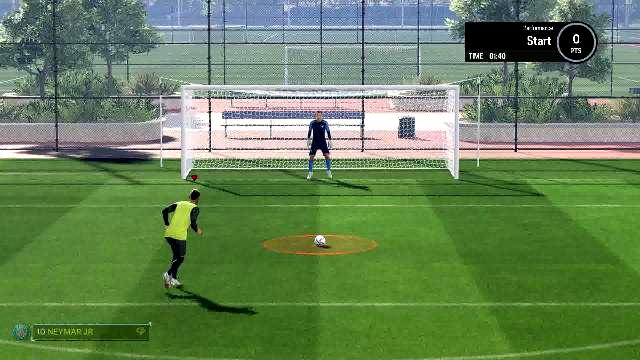bottom-left: (187, 138, 273, 180)
bottom-right: (361, 138, 449, 180)
center-down: (274, 136, 364, 178)
center-up: (276, 90, 364, 134)
circle: (263, 234, 375, 256)
football: (312, 235, 328, 247)
goalkeeper: (303, 110, 339, 180)
player: (157, 187, 206, 295)
top-left: (188, 91, 274, 135)
top-right: (362, 92, 450, 136)
